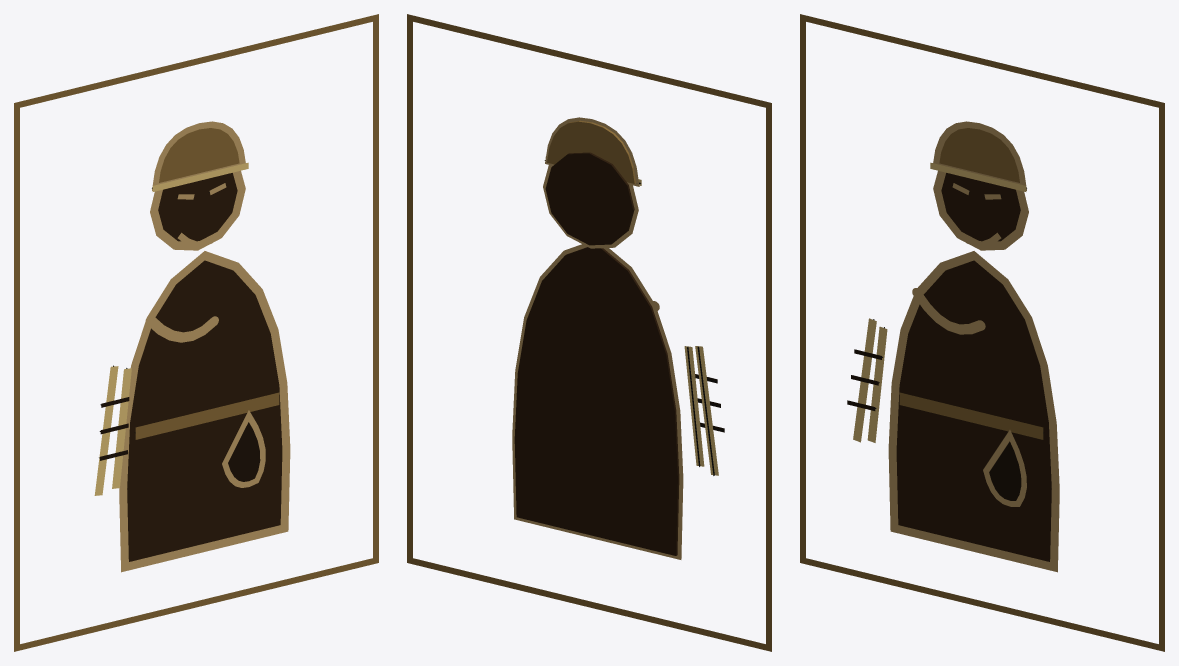
File: npc-kupets-dolzhnik.glb
3 views of the same model, side by side, from view 1: azimuth 30°, elevation 25°; view 2: azimuth 150°, elevation 25°; view 3: azimuth 330°, elevation 25° (orthographic).
Parts seen in each view (by area): view 1: npc-kupets-dolzhnik; view 2: npc-kupets-dolzhnik; view 3: npc-kupets-dolzhnik.
Part boxes in pixels (x1=…): npc-kupets-dolzhnik: x1=14, y1=14, x2=378, y2=651; npc-kupets-dolzhnik: x1=407, y1=14, x2=771, y2=651; npc-kupets-dolzhnik: x1=800, y1=14, x2=1164, y2=651.
Size of the model in its own units: 1.14 by 1.64 by 0.1054.
